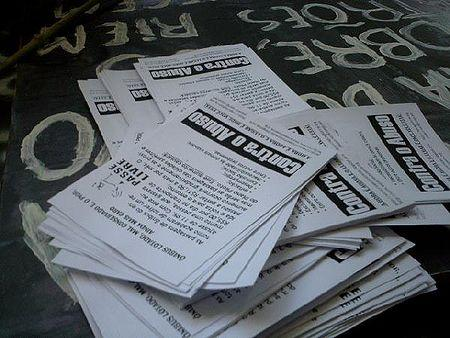paper: (40, 44, 450, 338)
